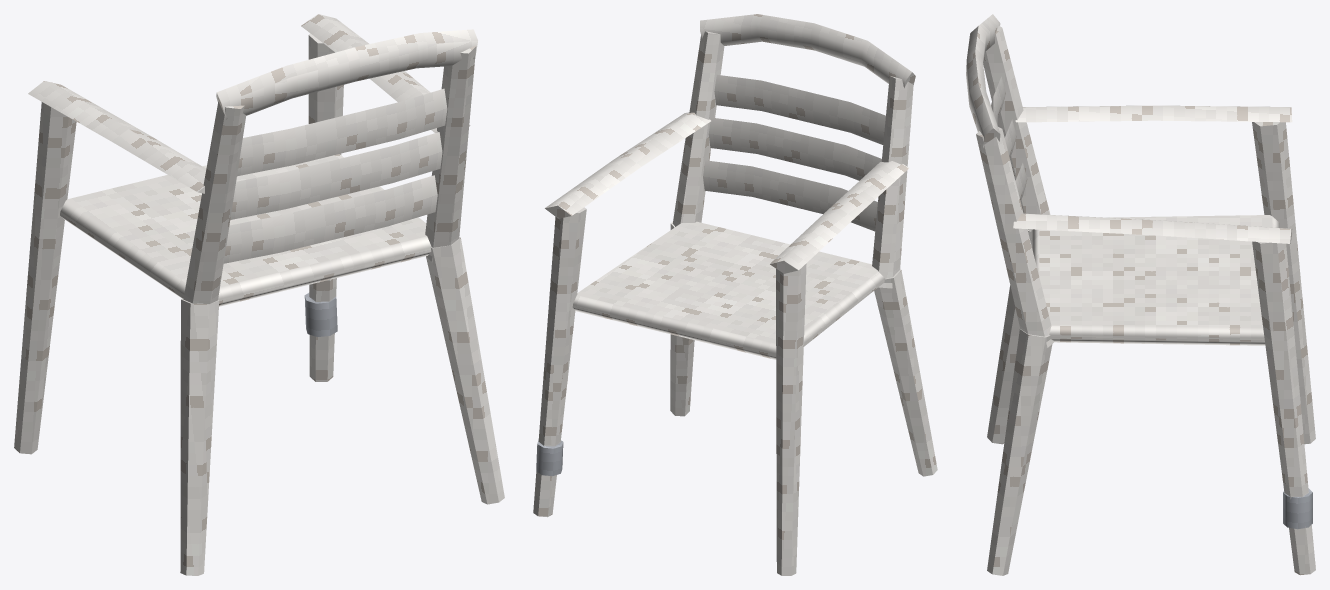
File: s_pchair.glb
3 views of the same model, side by side, from view 1: azimuth 30°, elevation 25°; view 2: azimuth 150°, elevation 25°; view 3: azimuth 270°, elevation 25° (orthographic). The views are drawn at different scales.
Visible parts, largest first — view 1: s_pchair_mesh; view 2: s_pchair_mesh; view 3: s_pchair_mesh.
Part boxes in pixels (x1,y1,x2,y2): s_pchair_mesh: (14,14,504,575); s_pchair_mesh: (533,14,937,575); s_pchair_mesh: (966,14,1315,575).
Size of what is drawn, in the model's own units: 0.5928 by 0.8894 by 0.6198.
2 materials, 2 textured.
